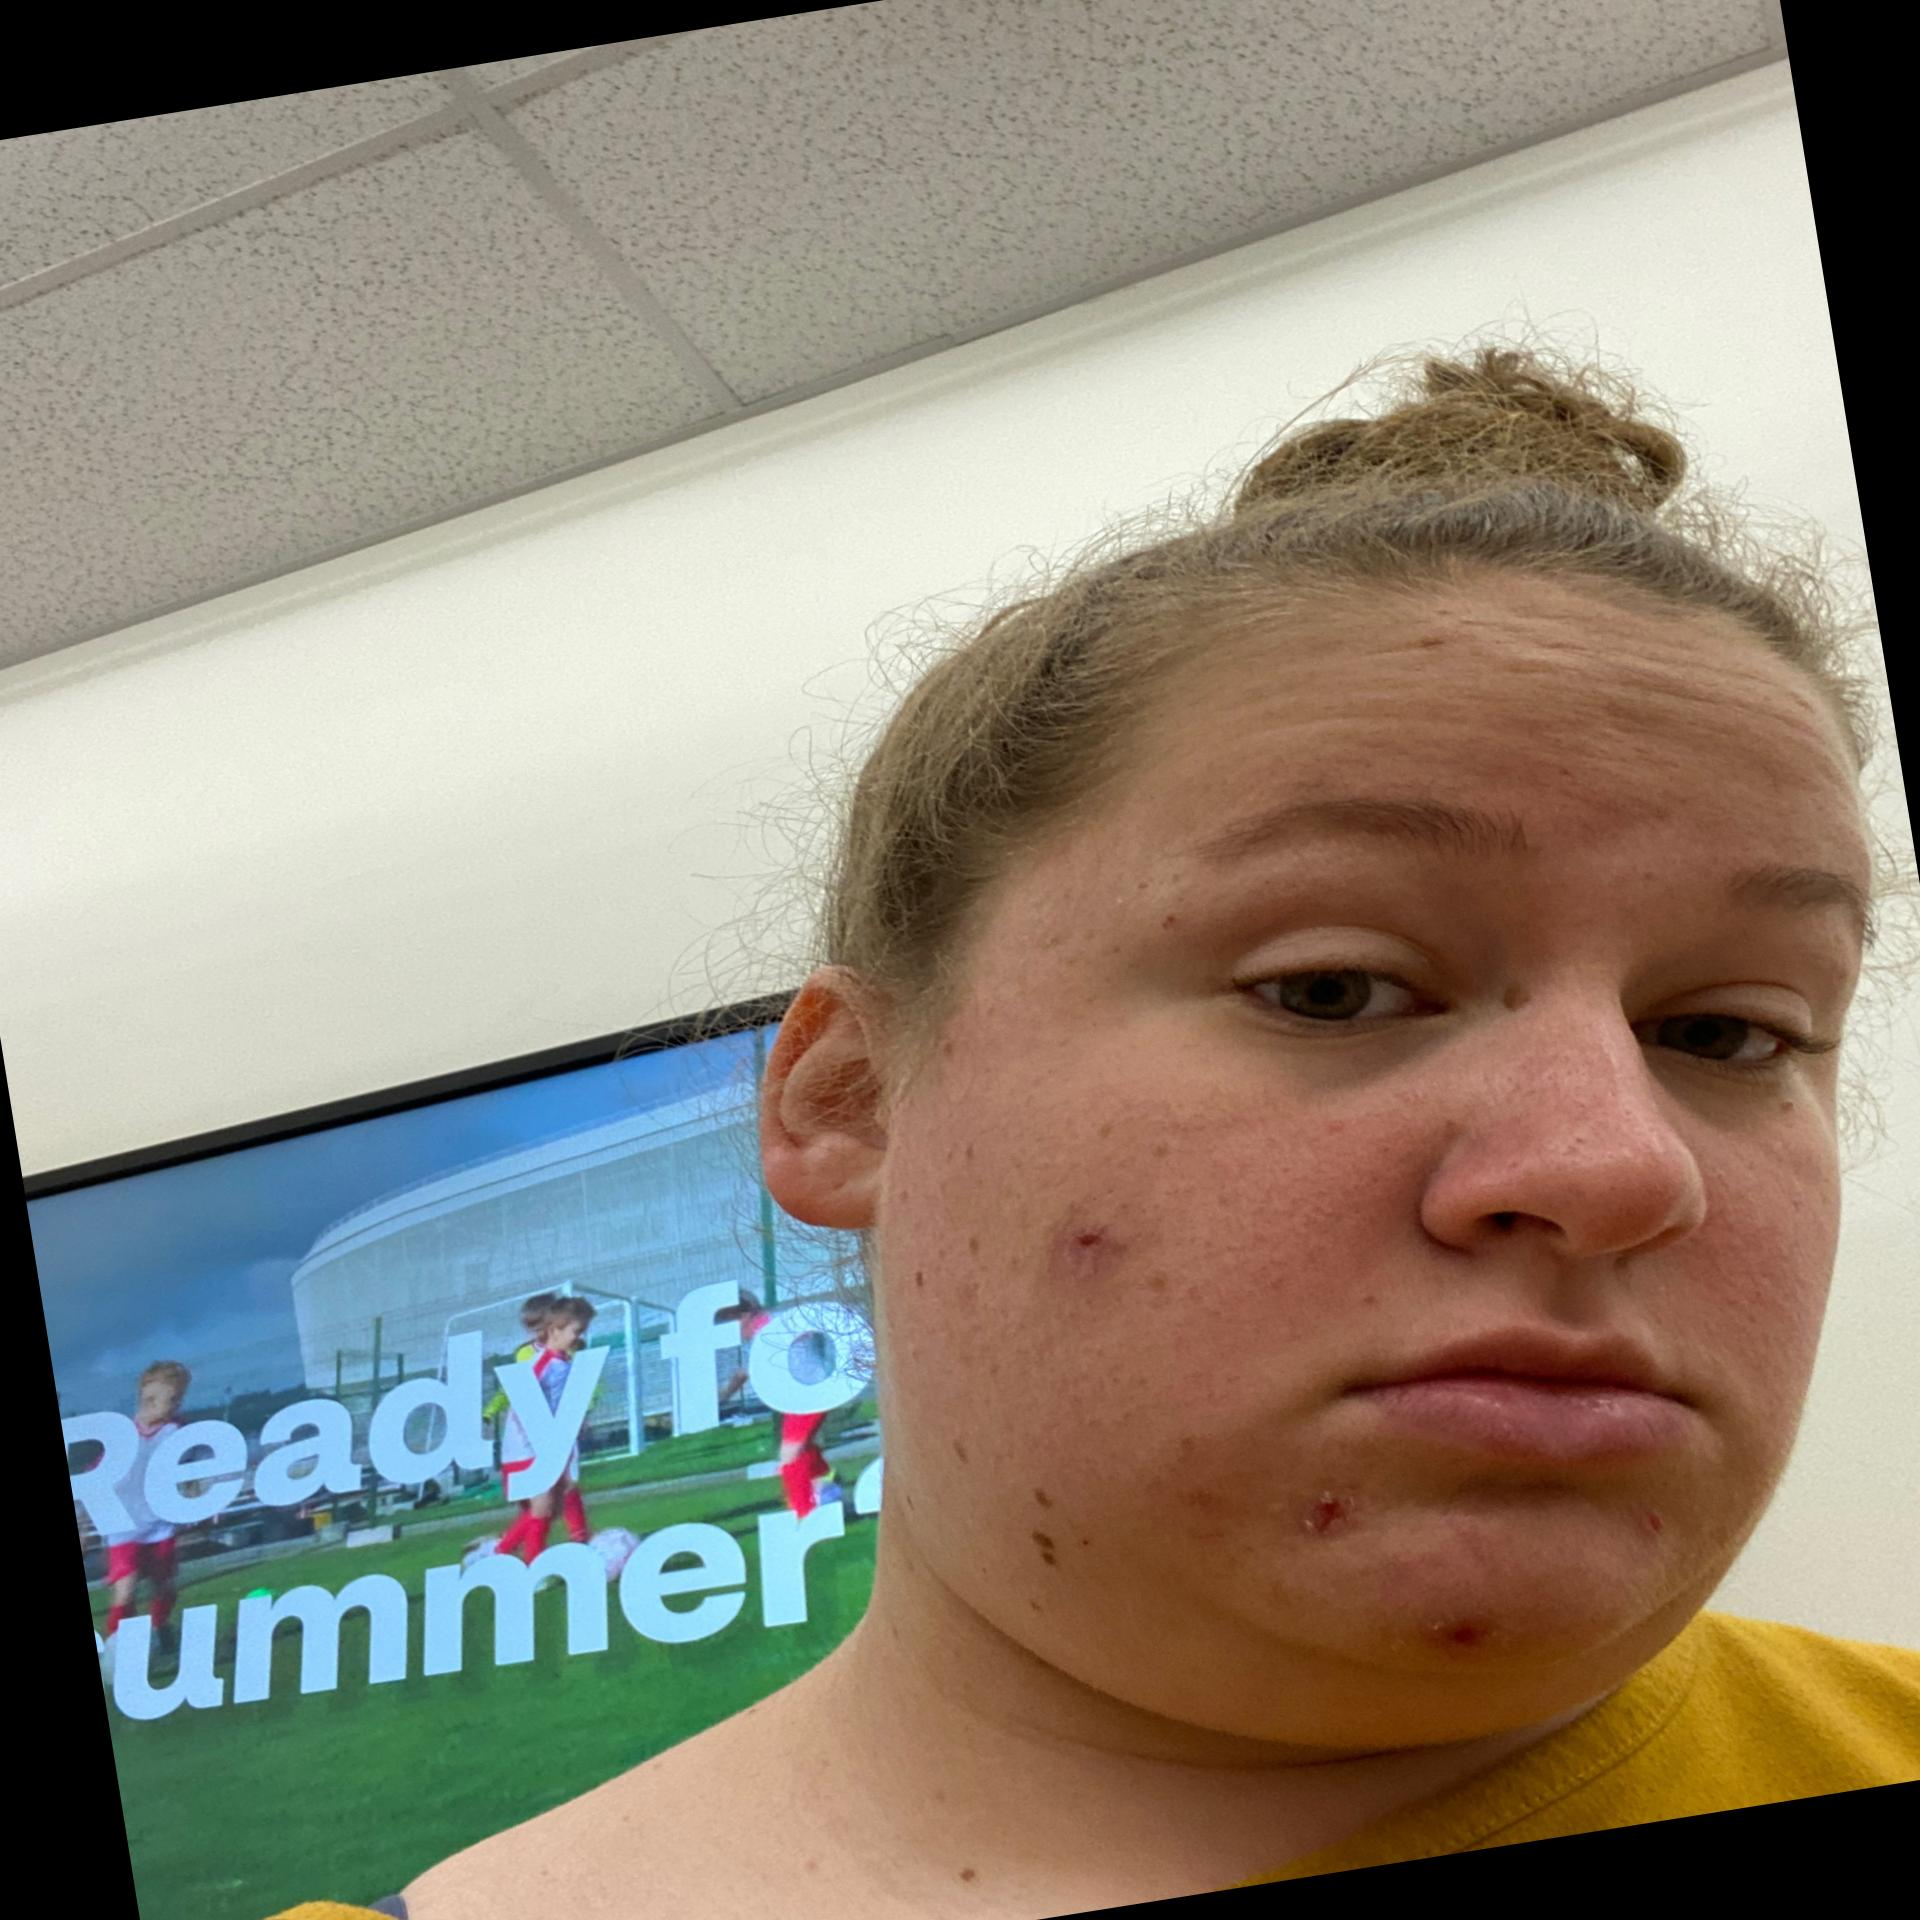Acne: (1034, 1206, 1136, 1291), (1412, 1598, 1514, 1660), (1291, 1482, 1364, 1547), (1632, 1500, 1681, 1547), (1152, 907, 1185, 941)
Englarged Pores: (1176, 1094, 1445, 1338), (1681, 1145, 1820, 1349), (1516, 1037, 1655, 1173)
Wrinkles: (1241, 687, 1472, 765), (1612, 661, 1730, 726), (1741, 698, 1839, 765), (1625, 640, 1730, 691), (1728, 659, 1815, 721), (1368, 633, 1456, 661), (1463, 610, 1535, 642), (1544, 635, 1614, 661), (1512, 656, 1556, 682)
